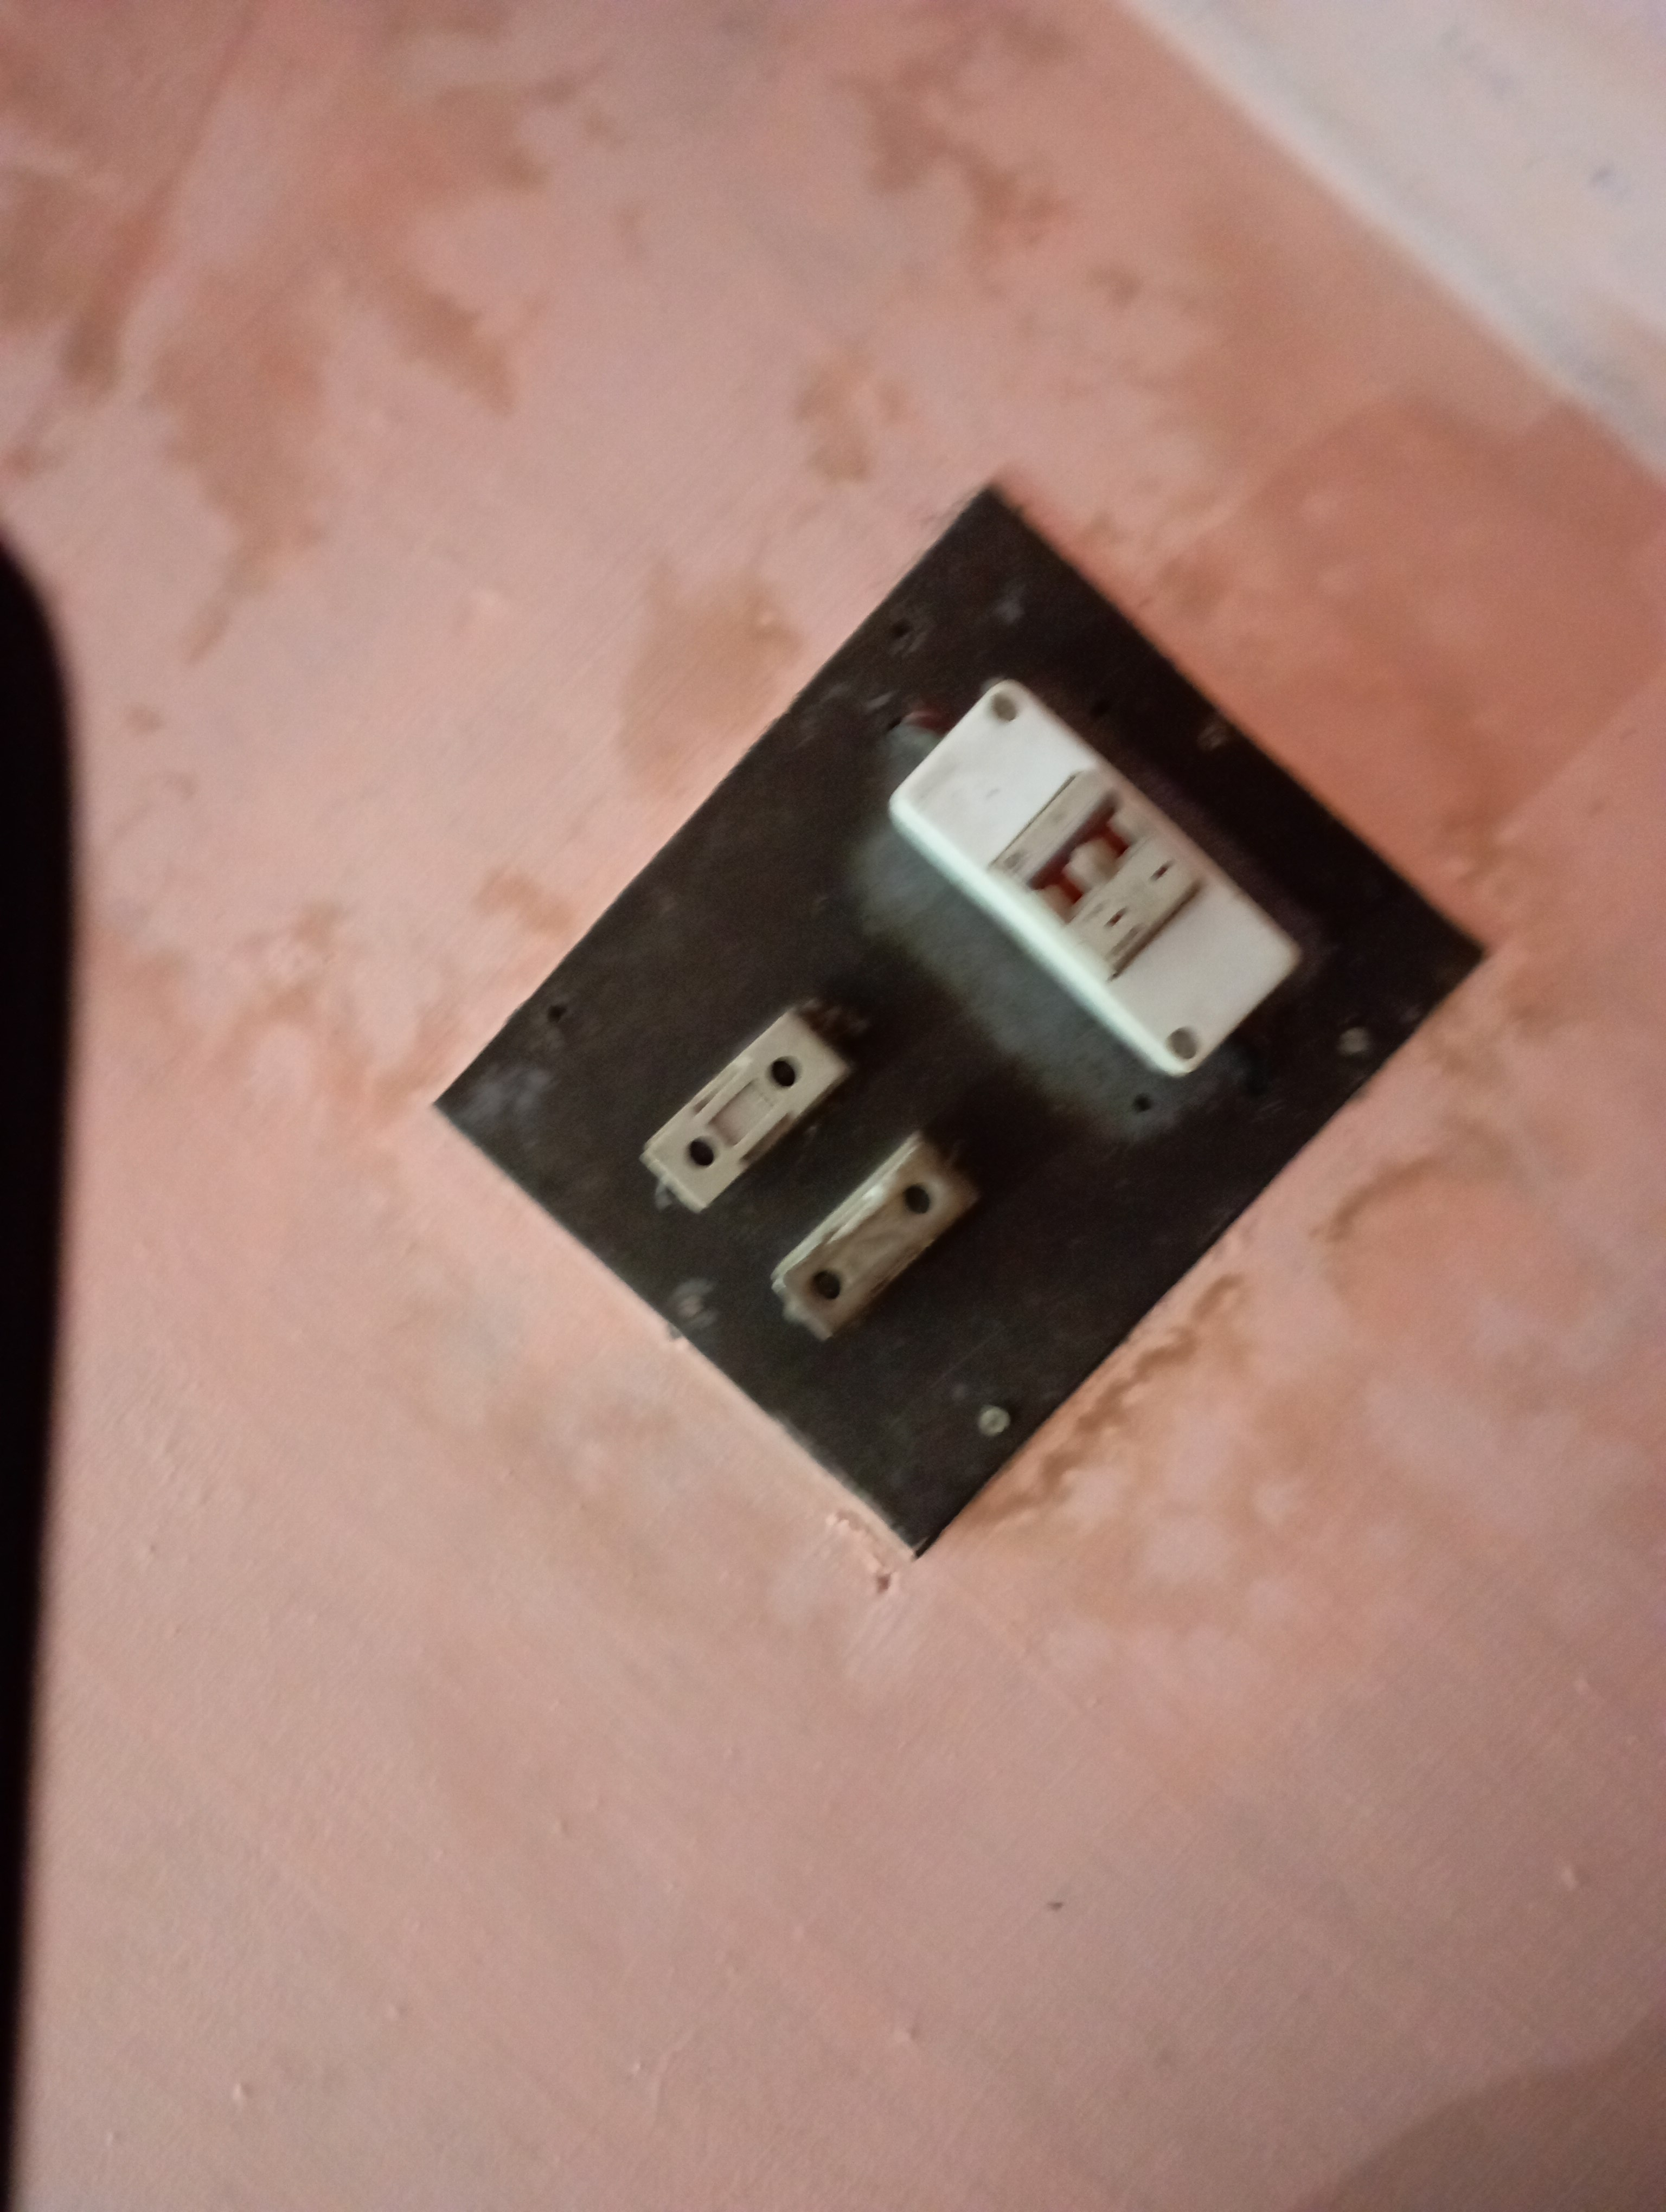ciruit_breaker: (873, 621, 1349, 1102)
fuse: (635, 1005, 873, 1238), (772, 1119, 992, 1348)
